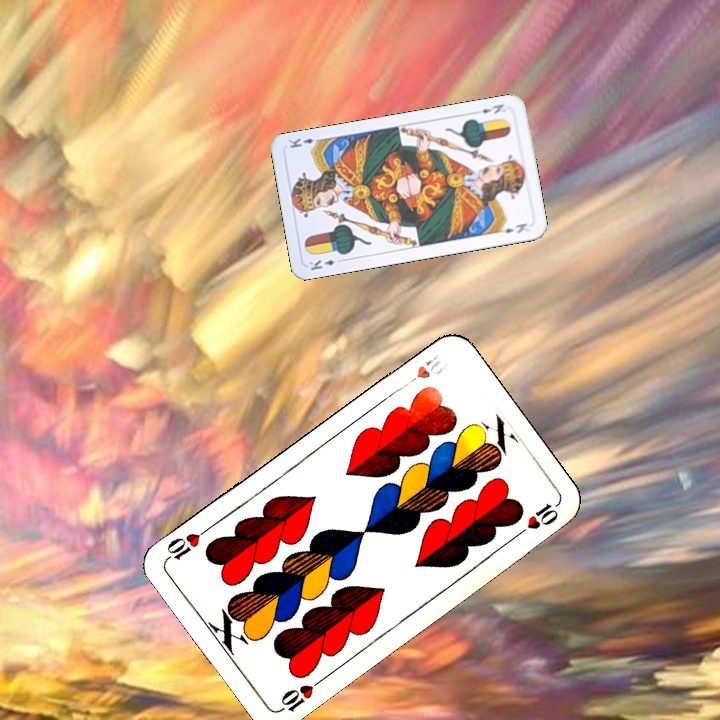EK: (305, 255, 346, 273), (478, 100, 506, 116)
H10: (398, 350, 451, 391), (275, 674, 326, 715)
